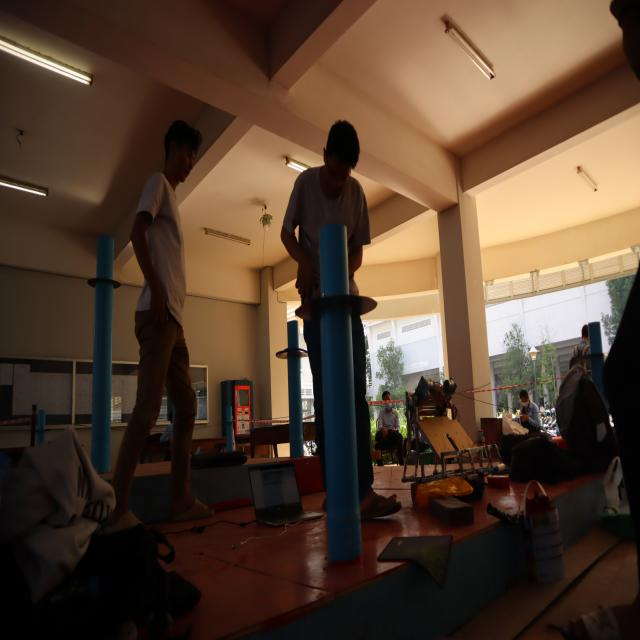pole: (296, 224, 375, 391), (81, 229, 130, 332)
